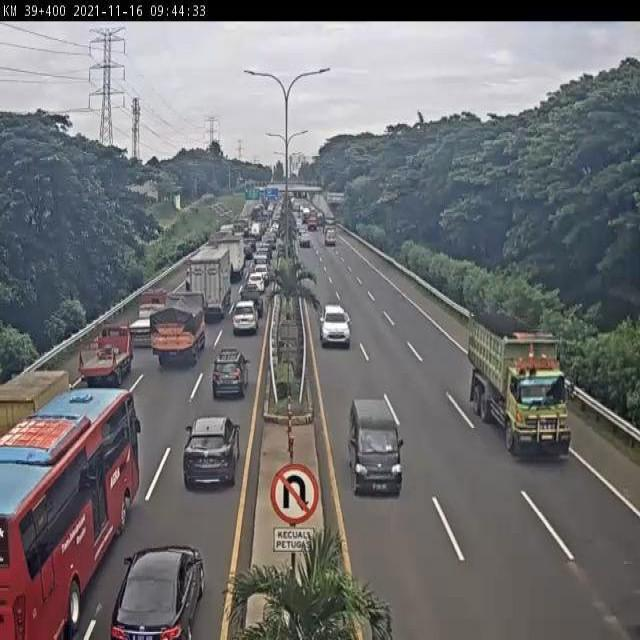car: (111, 544, 206, 635), (343, 400, 412, 504), (182, 415, 243, 499), (208, 344, 252, 400), (311, 296, 354, 344), (232, 295, 260, 336)
truck: (0, 389, 141, 639), (463, 310, 578, 470), (147, 292, 209, 368), (0, 366, 74, 422), (191, 243, 234, 320), (82, 327, 135, 385), (133, 287, 161, 340)
